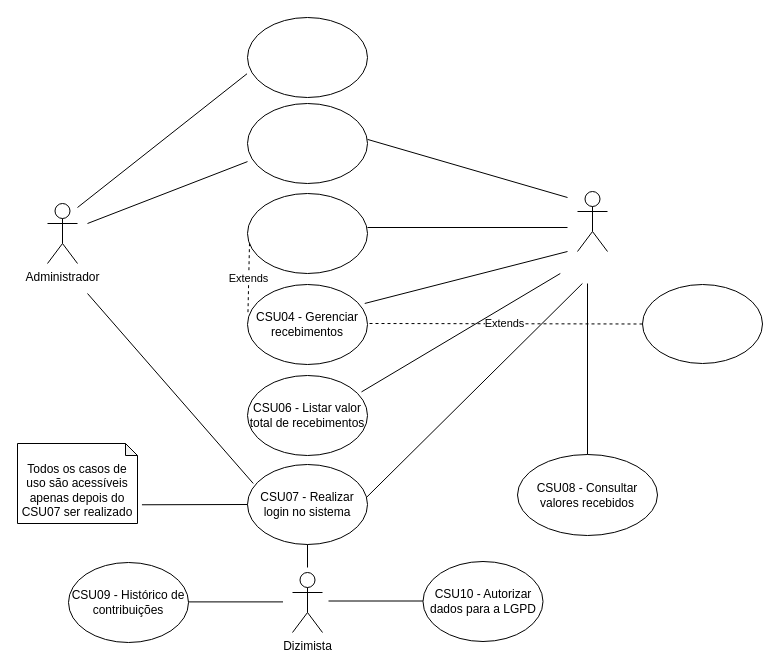
The diagram is 780 pixels wide and 671 high, and some of its shapes have lost their labels. The box of each missing label's shape, as (x1, y1, x2, y2) in pixels:
CSU01 - Gerenciar establecimento: (246, 16, 368, 98)
CSU02 - Gerenciar funcionário: (246, 102, 368, 184)
CSU03 - Gerenciar dizimista: (246, 192, 368, 274)
CSU05 - Adicionar recebimento: (642, 284, 762, 364)
Funcionário: (576, 190, 608, 252)
